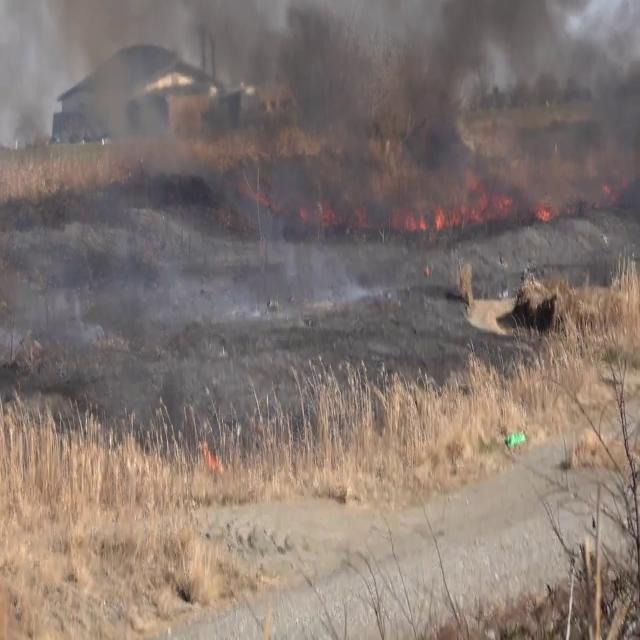Smoke: (1, 0, 618, 205)
